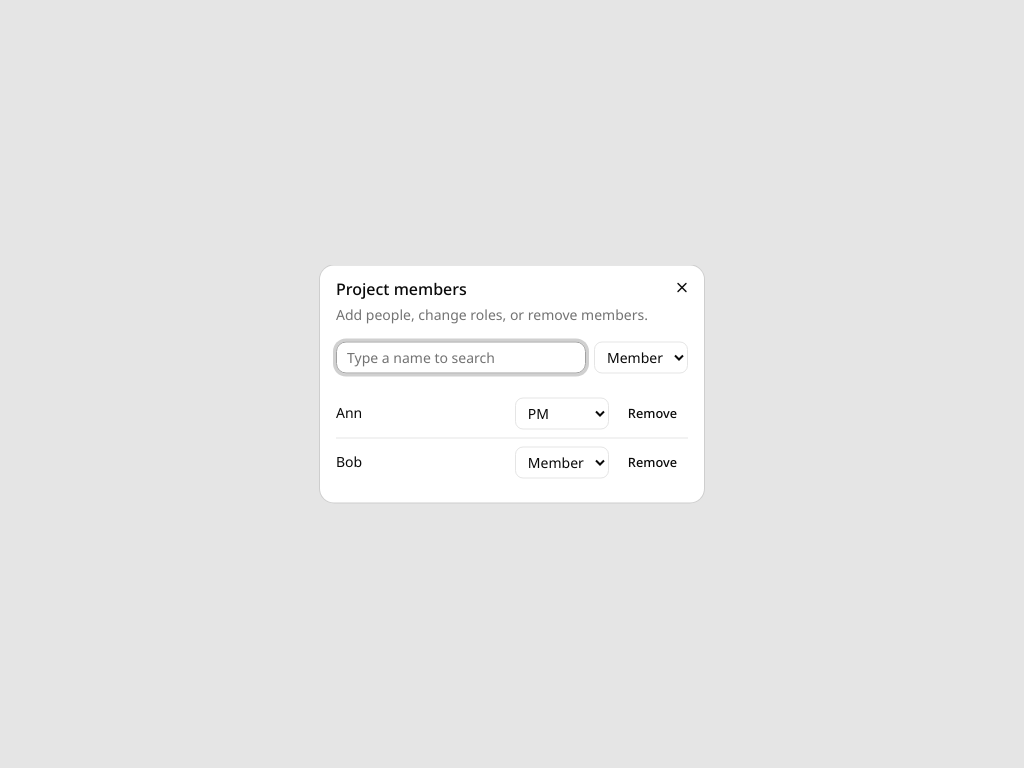
MembersDialog › remove asks confirm first
Click the button with aria-label "Remove Bob". click: coordinates (652, 462)
box: [617,448,688,476]
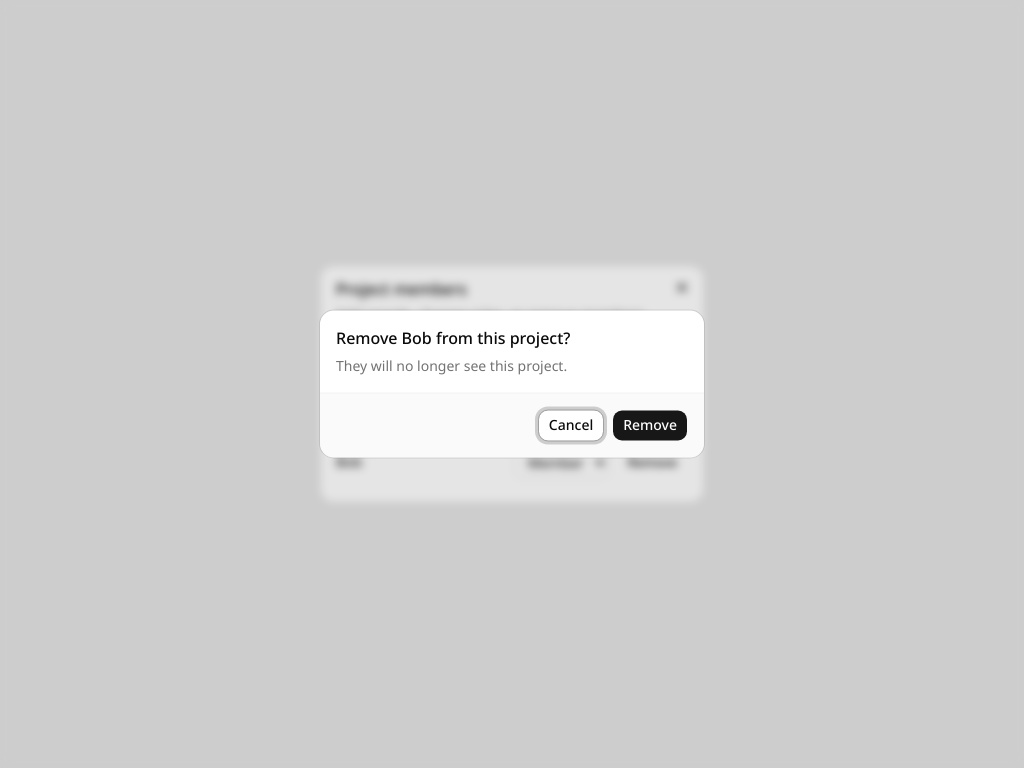
Click the button "Remove". click: coordinates (650, 426)
box: [612,410,688,442]
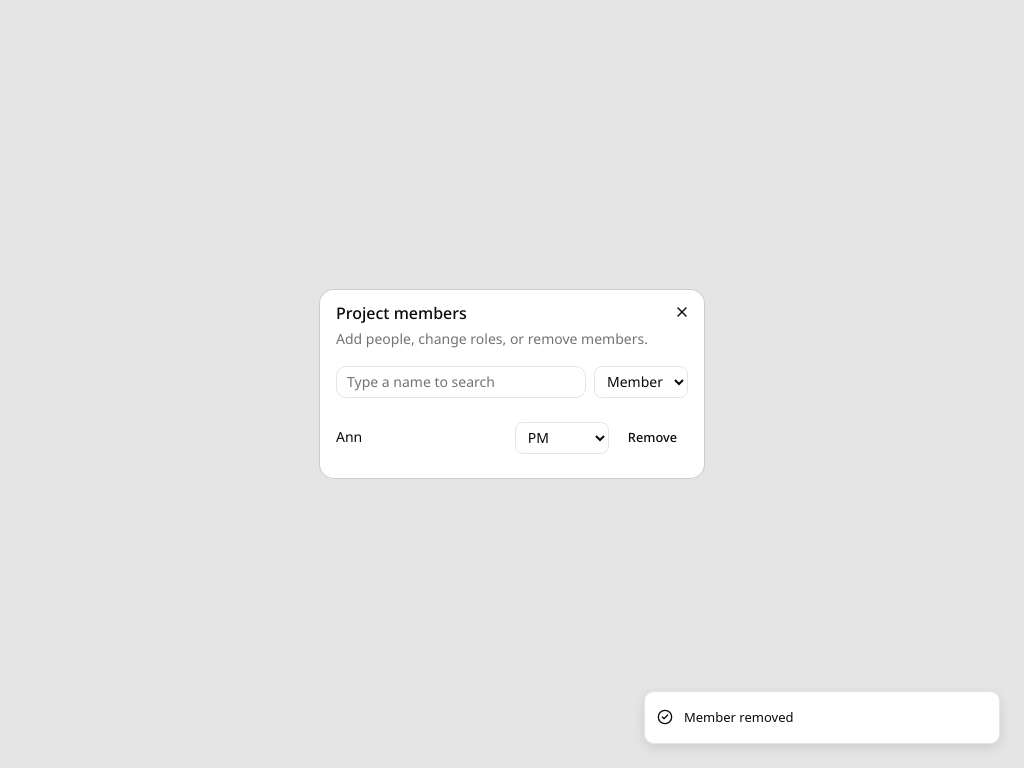
Check: the text "Bob" is gone
